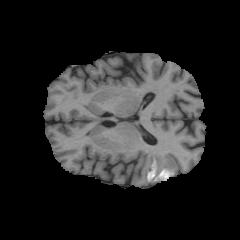glioma: (143, 153, 182, 185)
